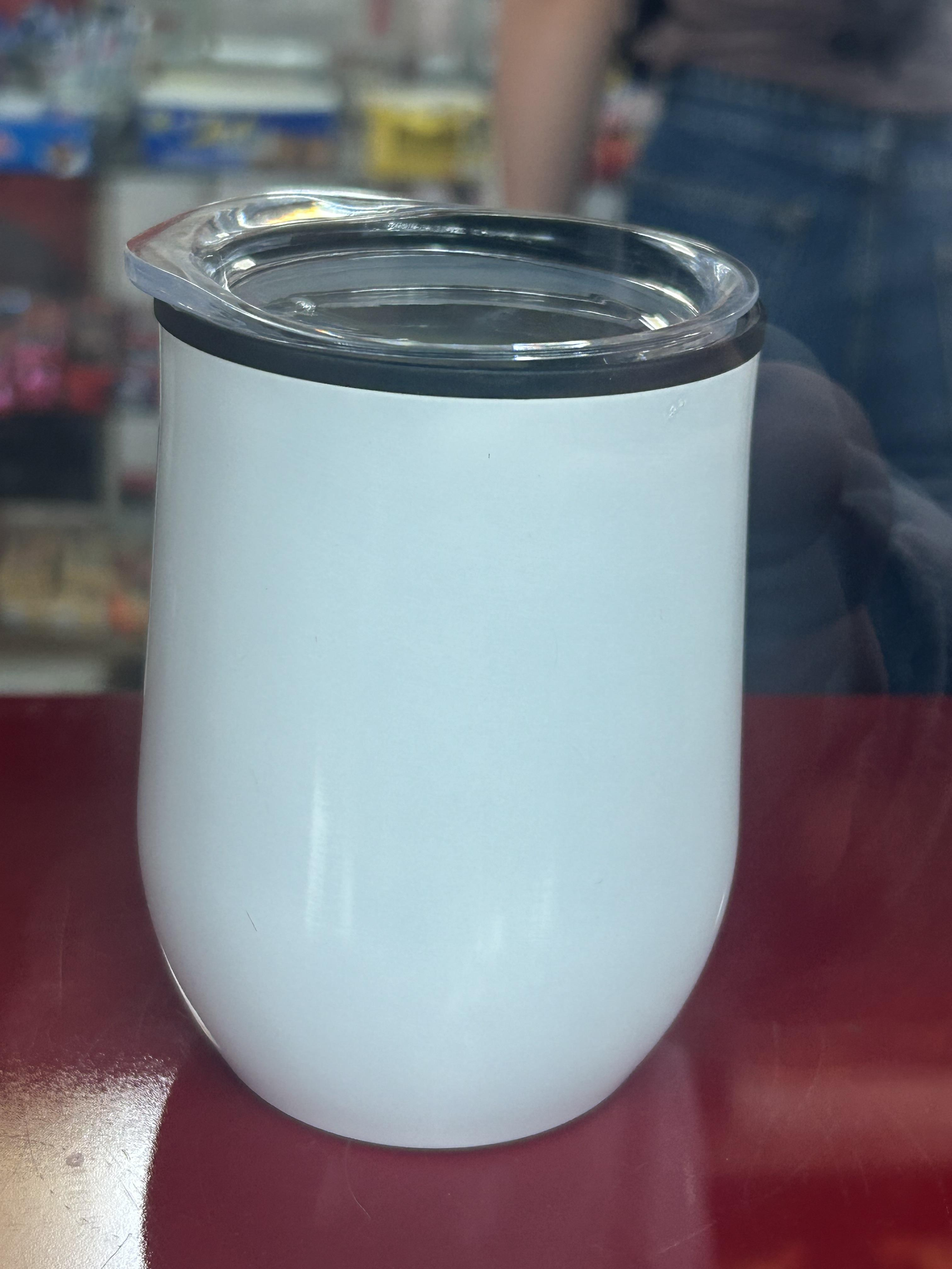vaso: (127, 189, 764, 1148)
